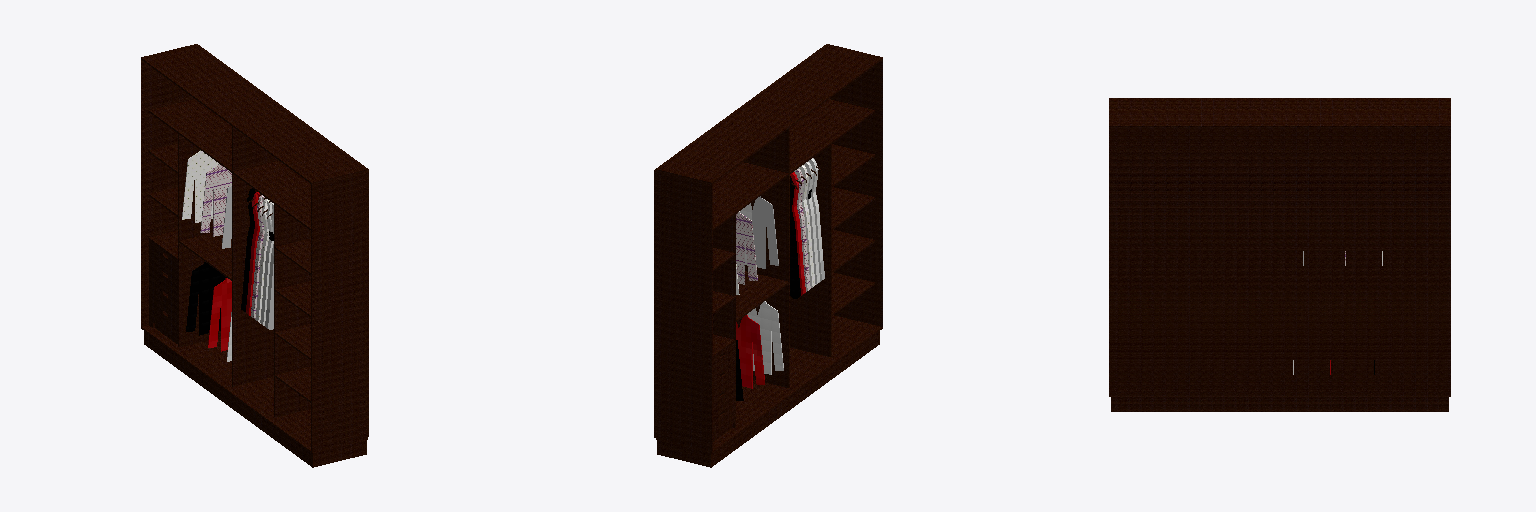
The picture shows the model from 3 angles: view 1: azimuth 30°, elevation 25°; view 2: azimuth 150°, elevation 25°; view 3: azimuth 270°, elevation 25°; orthographic projection.
Parts seen in each view (by area): view 1: Mesh1 Group1 wardrobe_1_1 Model, Mesh7 Group1 wardrobe_1_1 Model, Mesh5 Group1 wardrobe_1_1 Model, Mesh4 Group1 wardrobe_1_1 Model, Mesh8 Group1 wardrobe_1_1 Model, Mesh10 Group1 wardrobe_1_1 Model, Mesh2 Group1 wardrobe_1_1 Model, Mesh11 Group1 wardrobe_1_1 Model, Mesh13 Group1 wardrobe_1_1 Model, Mesh9 Group1 wardrobe_1_1 Model; view 2: Mesh1 Group1 wardrobe_1_1 Model, Mesh6 Group1 wardrobe_1_1 Model, Mesh8 Group1 wardrobe_1_1 Model, Mesh3 Group1 wardrobe_1_1 Model, Mesh5 Group1 wardrobe_1_1 Model, Mesh2 Group1 wardrobe_1_1 Model, Mesh12 Group1 wardrobe_1_1 Model, Mesh13 Group1 wardrobe_1_1 Model, Mesh9 Group1 wardrobe_1_1 Model, Mesh11 Group1 wardrobe_1_1 Model, Mesh10 Group1 wardrobe_1_1 Model; view 3: Mesh1 Group1 wardrobe_1_1 Model.
Part boxes in pixels (x1,y1,x2,y2): Mesh1 Group1 wardrobe_1_1 Model: (141, 44, 368, 467); Mesh7 Group1 wardrobe_1_1 Model: (186, 262, 226, 335); Mesh5 Group1 wardrobe_1_1 Model: (200, 163, 231, 236); Mesh4 Group1 wardrobe_1_1 Model: (182, 150, 217, 222); Mesh8 Group1 wardrobe_1_1 Model: (208, 278, 231, 351); Mesh10 Group1 wardrobe_1_1 Model: (246, 192, 259, 315); Mesh2 Group1 wardrobe_1_1 Model: (241, 188, 255, 311); Mesh11 Group1 wardrobe_1_1 Model: (260, 202, 273, 325); Mesh13 Group1 wardrobe_1_1 Model: (255, 199, 270, 322); Mesh9 Group1 wardrobe_1_1 Model: (251, 195, 264, 318); Mesh1 Group1 wardrobe_1_1 Model: (654, 44, 882, 467); Mesh6 Group1 wardrobe_1_1 Model: (740, 196, 778, 268); Mesh8 Group1 wardrobe_1_1 Model: (736, 315, 764, 388); Mesh3 Group1 wardrobe_1_1 Model: (747, 301, 783, 374); Mesh5 Group1 wardrobe_1_1 Model: (736, 211, 757, 284); Mesh2 Group1 wardrobe_1_1 Model: (790, 176, 800, 298); Mesh12 Group1 wardrobe_1_1 Model: (808, 158, 824, 281); Mesh13 Group1 wardrobe_1_1 Model: (795, 165, 815, 287); Mesh9 Group1 wardrobe_1_1 Model: (794, 169, 810, 291); Mesh11 Group1 wardrobe_1_1 Model: (804, 162, 819, 284); Mesh10 Group1 wardrobe_1_1 Model: (790, 172, 805, 295); Mesh1 Group1 wardrobe_1_1 Model: (1109, 98, 1450, 411).
Size of the model in its own units: 70.48 by 323 by 350.
Materials: 12 (6 with a texture image).